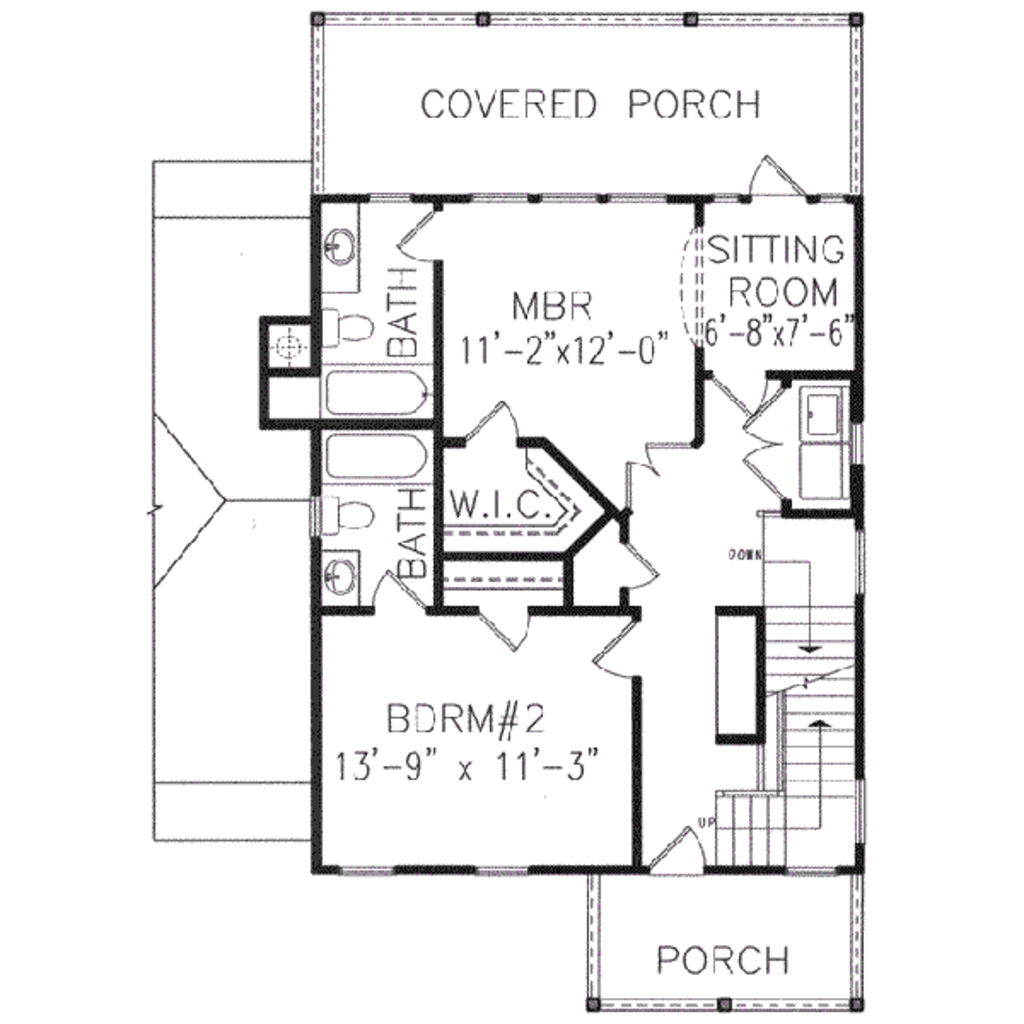door: (740, 391, 785, 501), (622, 437, 690, 497), (622, 529, 668, 592), (591, 618, 638, 678), (397, 209, 443, 267), (747, 155, 805, 201), (654, 824, 705, 876), (473, 401, 524, 449), (481, 607, 531, 653)
large_sink: (320, 305, 378, 360), (315, 488, 377, 539)
small_sink: (317, 203, 363, 291), (316, 547, 363, 616)
stairs: (709, 614, 855, 874)
tub: (315, 359, 434, 420), (320, 430, 434, 487)
windows: (471, 188, 677, 205)
